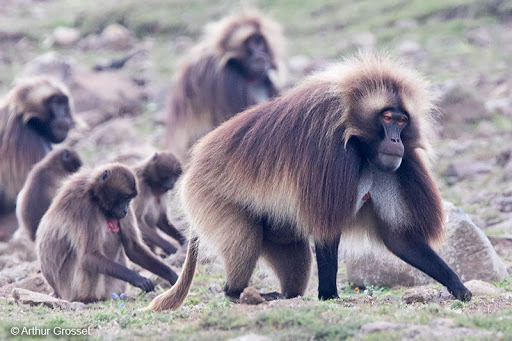Gelada: (195, 77, 436, 313), (160, 17, 282, 132), (54, 173, 142, 305), (1, 81, 69, 222), (133, 157, 186, 267), (24, 153, 77, 235)
